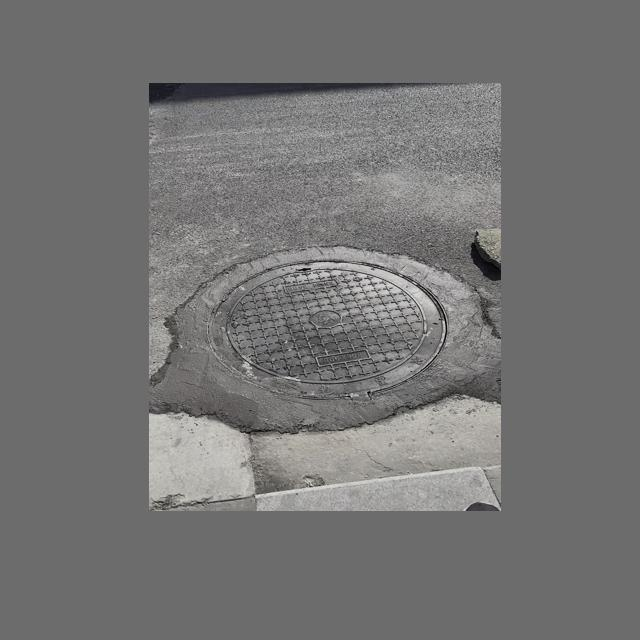good: (159, 236, 483, 431)
